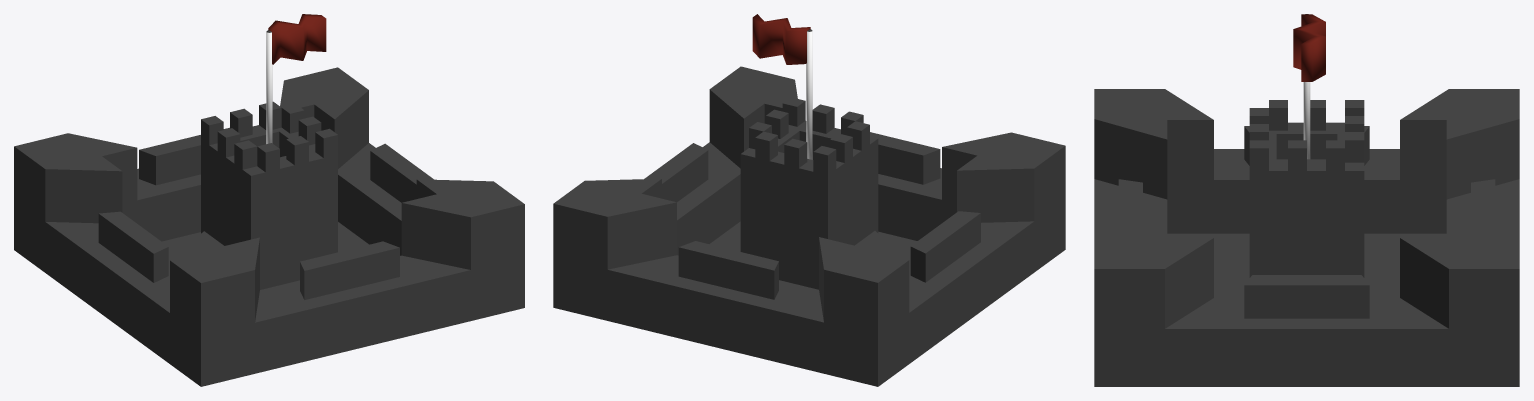
Rendered from Castle.fbx.
3 renders of one model, left to right at view 1: azimuth 30°, elevation 25°; view 2: azimuth 150°, elevation 25°; view 3: azimuth 270°, elevation 25°, orthographic. The views are drawn at different scales.
Visible parts, largest first — view 1: Cube; view 2: Cube; view 3: Cube.
Boxes of the visible parts, box(x1,y1,x2,y2) form: Cube: box(14, 14, 524, 386); Cube: box(553, 14, 1065, 386); Cube: box(1094, 14, 1519, 386).
Bounding box in the file's own units: 1326 × 974 × 1326.
